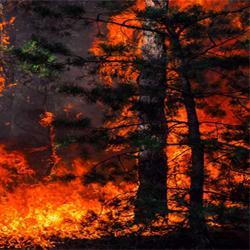fire: (1, 187, 96, 236), (169, 111, 189, 214), (199, 104, 241, 134), (107, 12, 138, 46)
